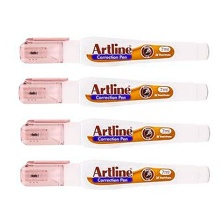correction_fluid: (18, 156, 211, 191), (15, 75, 211, 108), (16, 35, 211, 68), (17, 118, 210, 148)
